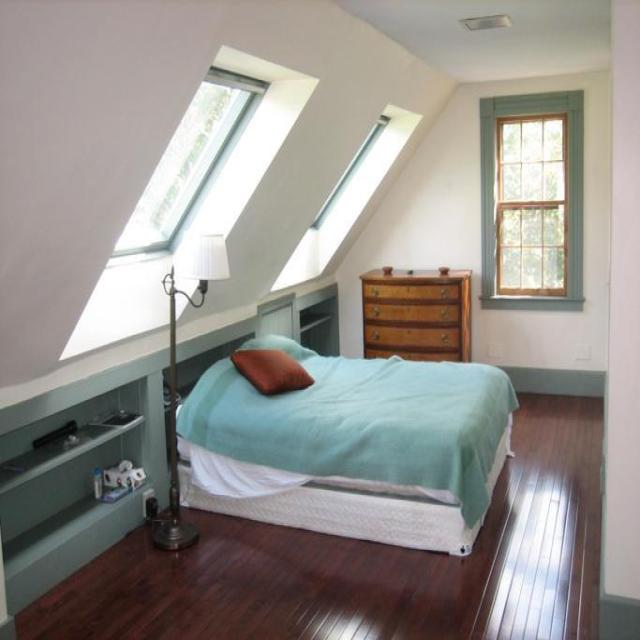bed: (171, 335, 518, 557)
cupboard: (358, 266, 472, 362)
lamps: (150, 231, 230, 550)
pillows: (229, 347, 315, 395), (233, 332, 320, 362)
shelves: (0, 375, 155, 616)
